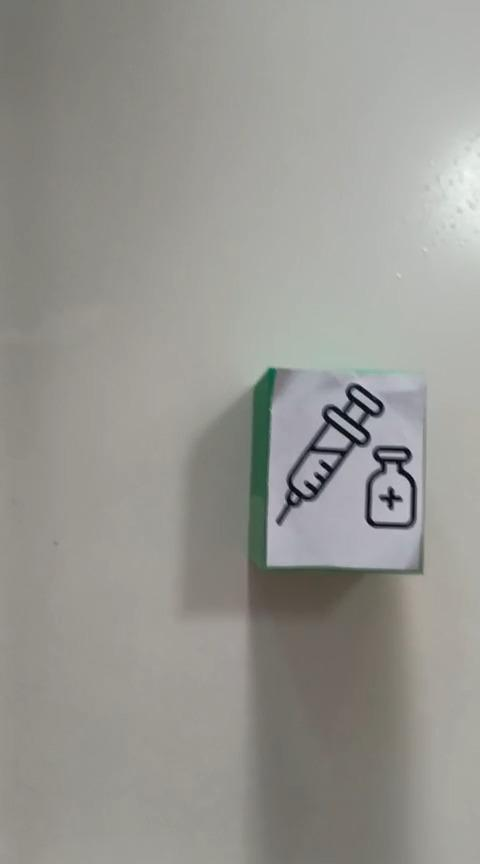antiseptic cream: (247, 365, 427, 574)
